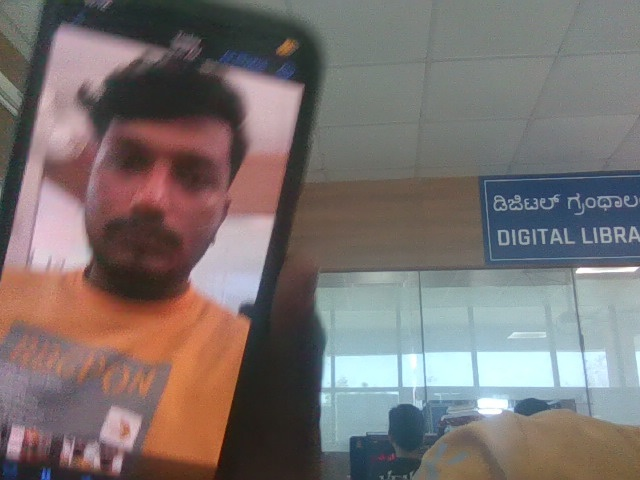fake: (59, 25, 253, 300)
